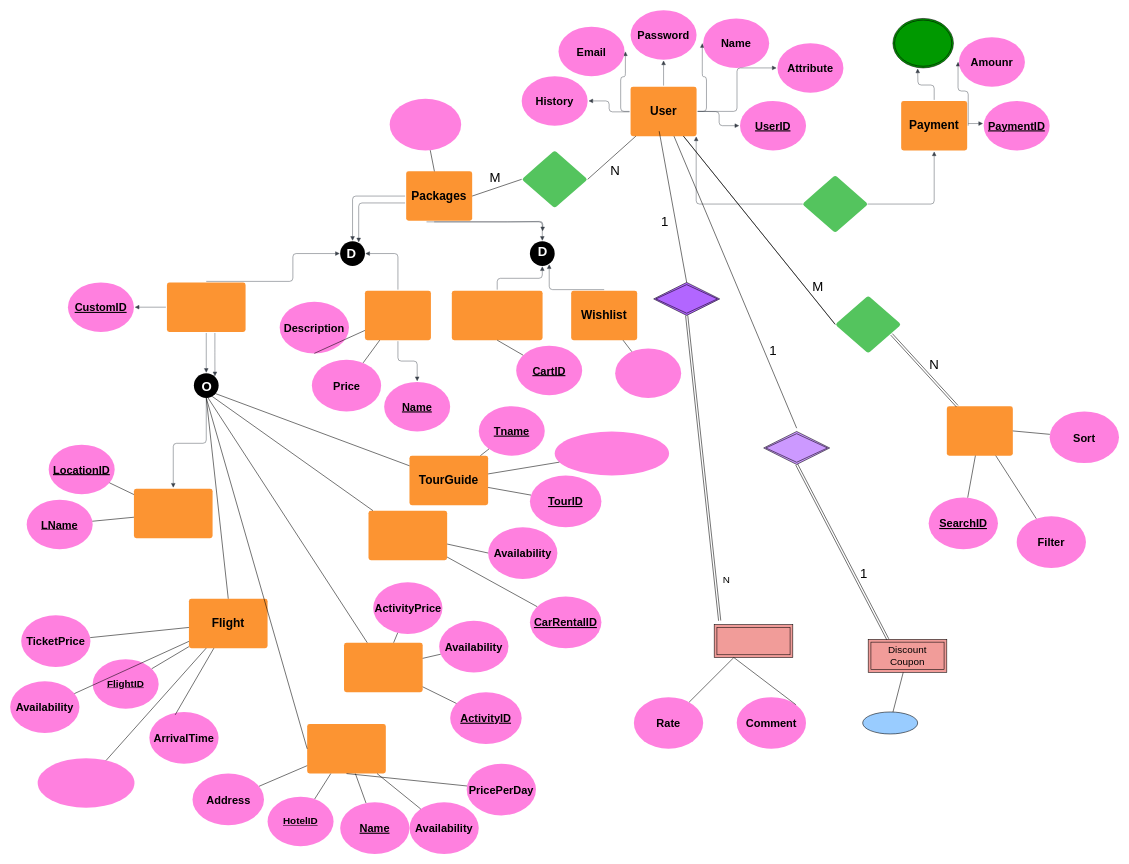
The diagram is 1129 pixels wide and 864 high, and some of its shapes have lost their labels. The centre of each missing label's shape, as x and y in pixels:
"Activity" belongs at point 383,667.
"can" belongs at point 868,324.
"CarRantel" belongs at point 407,535.
"Code" belongs at point 890,722.
"Custom" belongs at point 206,307.
"DepartureTime" belongs at point 86,782.
"gets" belongs at point 796,447.
"Hotel" belongs at point 346,748.
"Loction" belongs at point 173,513.
"Makes" belongs at point 835,203.
"Method Type" belongs at point 922,43.
"PackageID" belongs at point 425,124.
"Picks" belongs at point 554,179.
"Premade" belongs at point 398,315.
"Review" belongs at point 753,641.
"Search" belongs at point 980,430.
"ShoppingCart" belongs at point 497,315.
"TourGuidePrice" belongs at point 612,453.
"WishId" belongs at point 648,372.
"Write" belongs at point 686,298.
